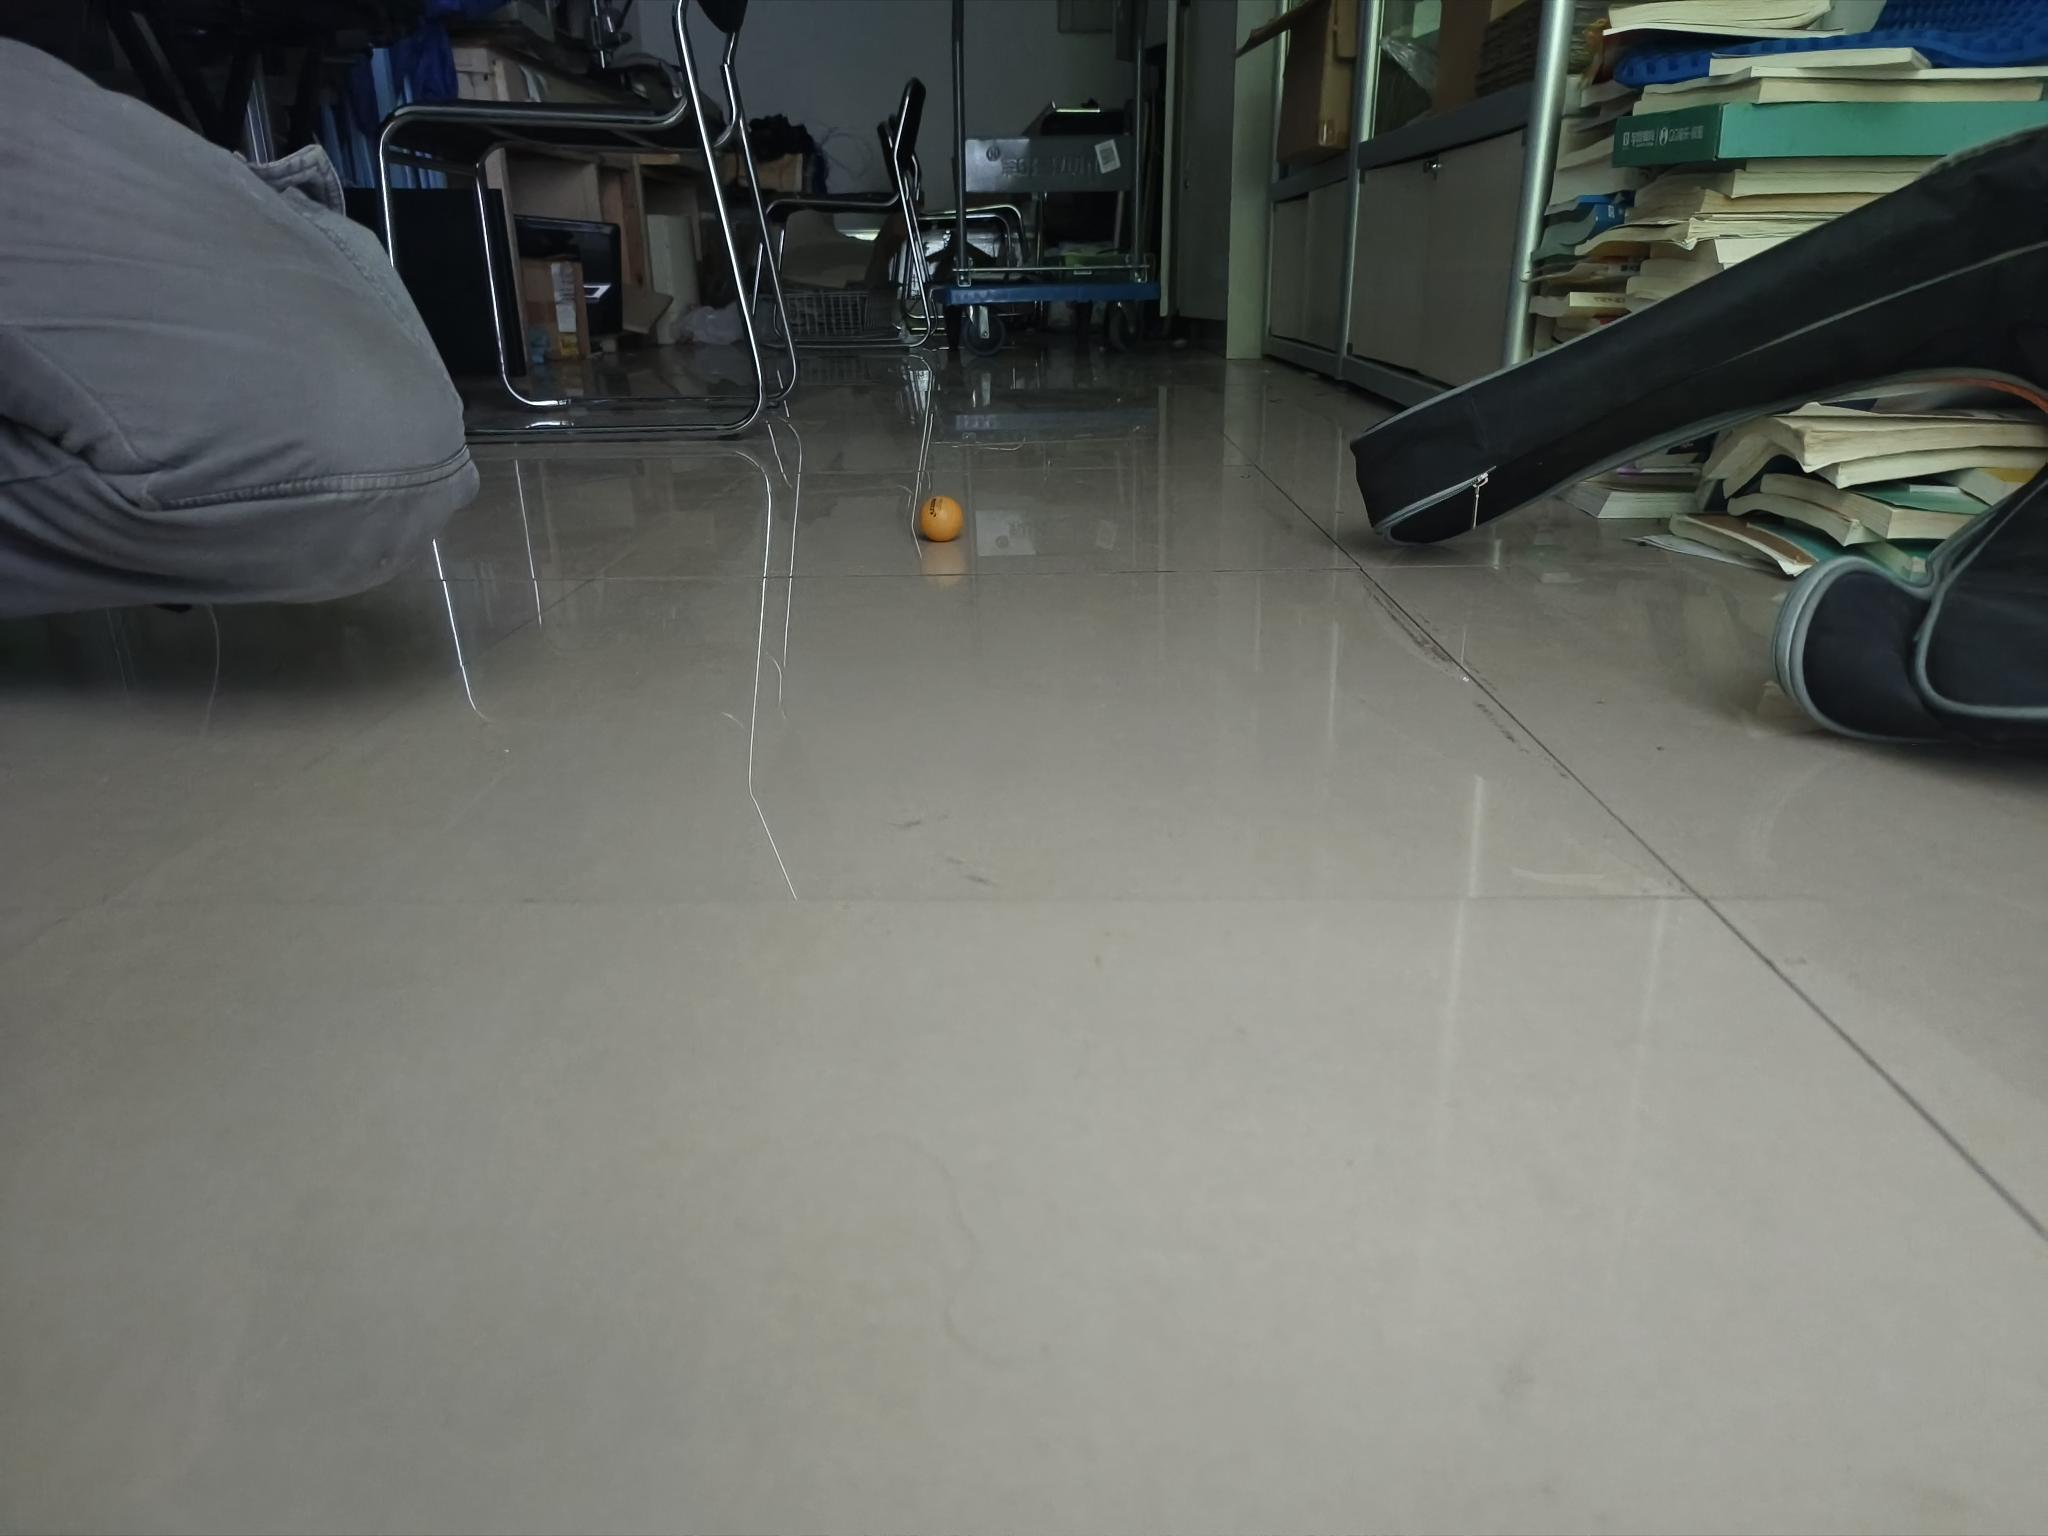ball: (921, 497, 963, 542)
